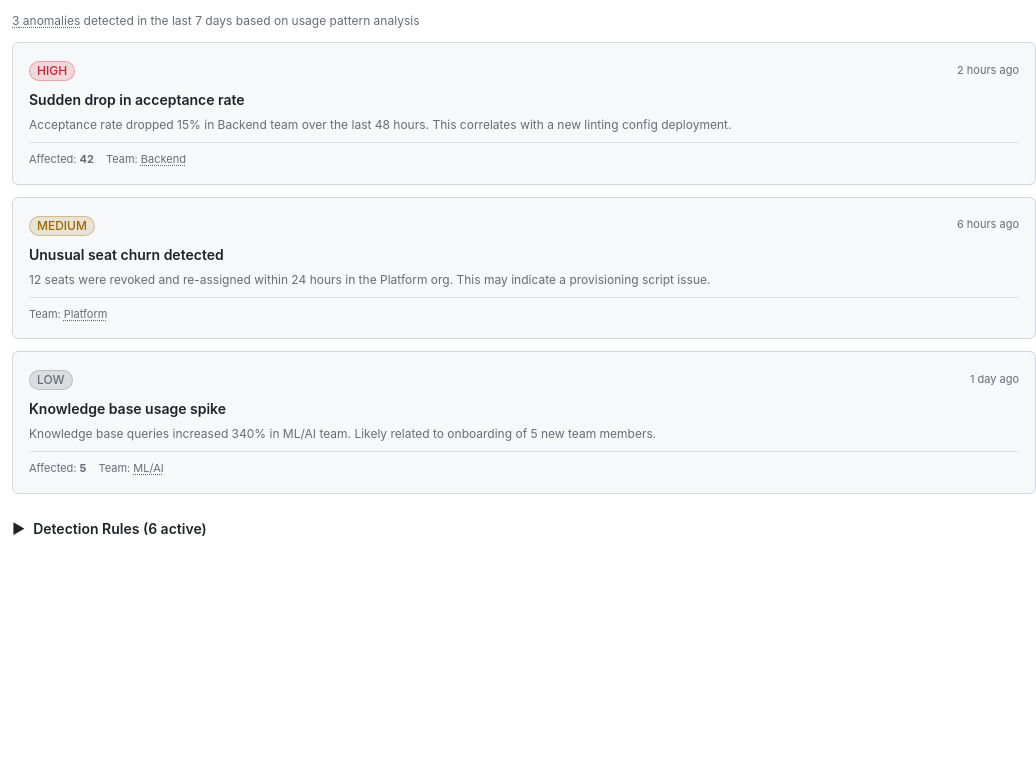
Test: AnomaliesPane clickable stats › clears severity filter when clicking the same badge again
The width and height of the screenshot is (1036, 780).
Click the button "HIGH" at (52, 70), box [29, 59, 75, 81]
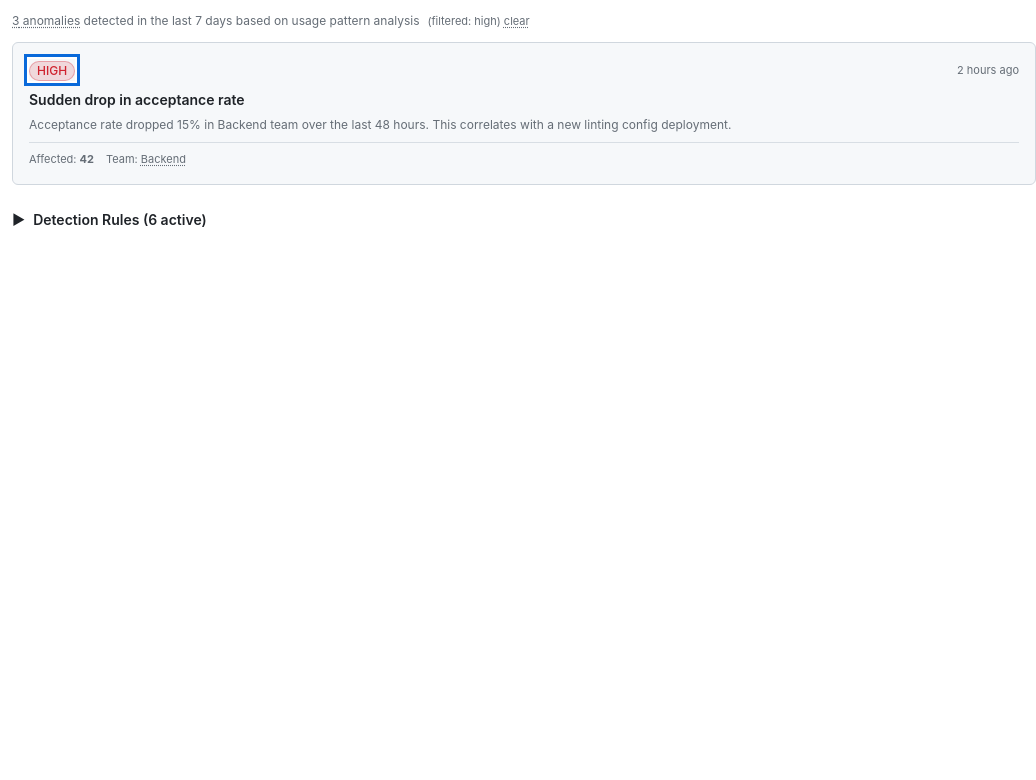
Now the text "(filtered: high) clear" is shown, box [428, 14, 530, 28]
Click HIGH badge again to clear filter
Click the button "HIGH" at (52, 70), box [29, 59, 75, 81]
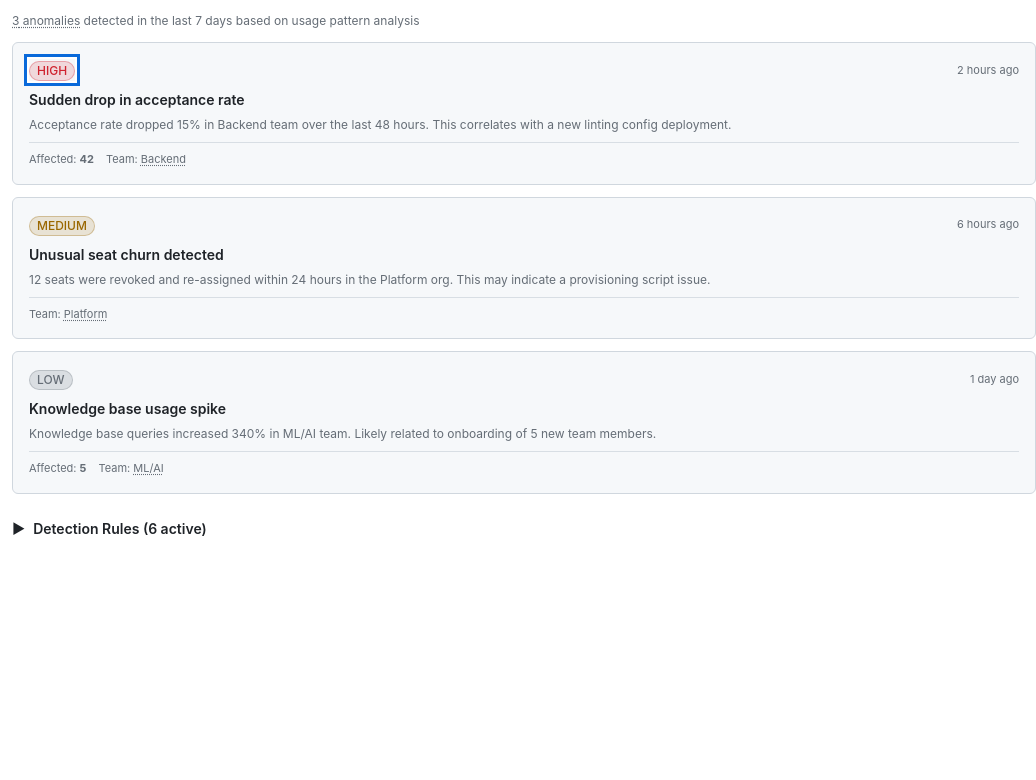
Expected: the text "Sudden drop in acceptance rate" is shown, [29, 91, 244, 108]
Now the text "filtered:" is gone
Now the text "Unusual seat churn detected" is shown, box [29, 246, 224, 262]
